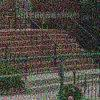stairs: (0, 27, 100, 71)
